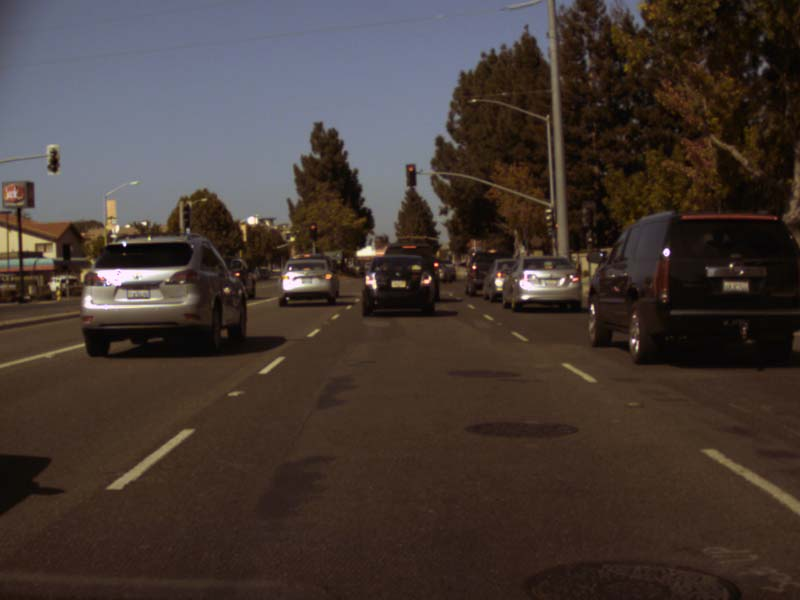Red: (405, 164, 414, 185), (308, 222, 315, 238), (422, 235, 425, 238), (405, 236, 409, 238)
